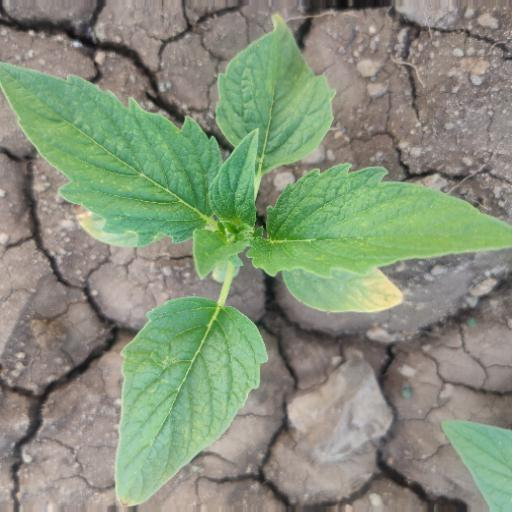weed: (15, 26, 497, 505)
